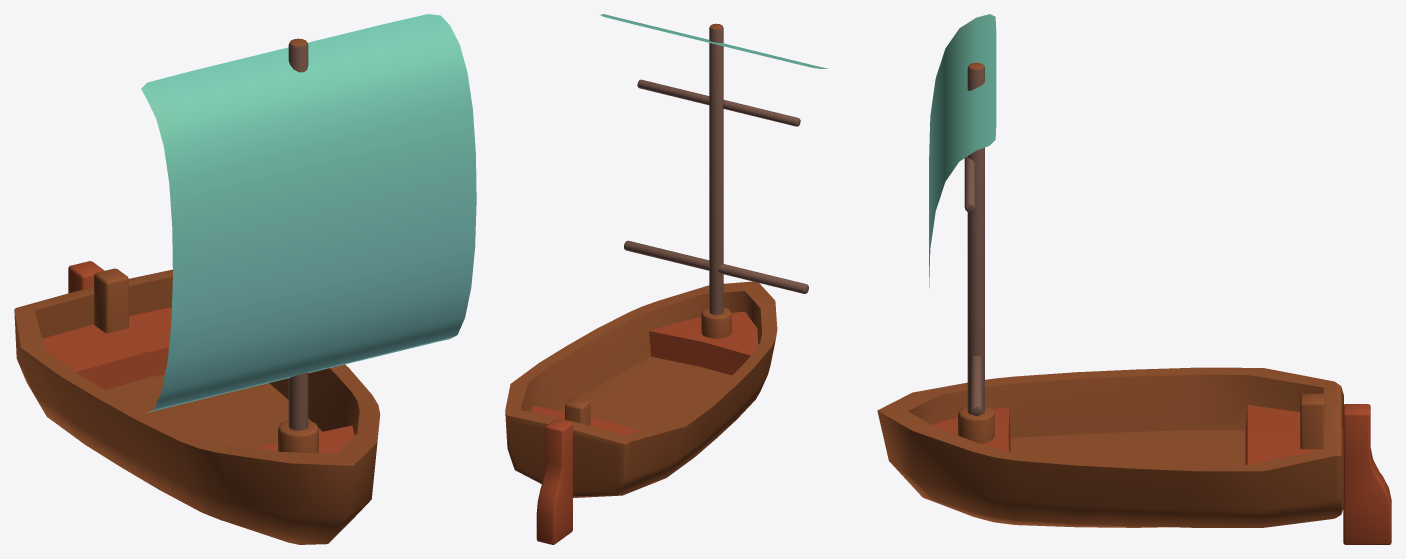
File: sailboat.glb
3 views of the same model, side by side, from view 1: azimuth 30°, elevation 25°; view 2: azimuth 150°, elevation 25°; view 3: azimuth 270°, elevation 25° (orthographic). The views are drawn at different scales.
Visible parts, largest first — view 1: sailboat; view 2: sailboat; view 3: sailboat.
Boxes of the visible parts, x1,y1,x2,y2 form: sailboat: (14, 14, 476, 544); sailboat: (505, 14, 828, 544); sailboat: (877, 14, 1391, 544).
Bounding box in the file's own units: 1.4 × 2.33 × 2.28.
Materials: 1 (1 with a texture image).
